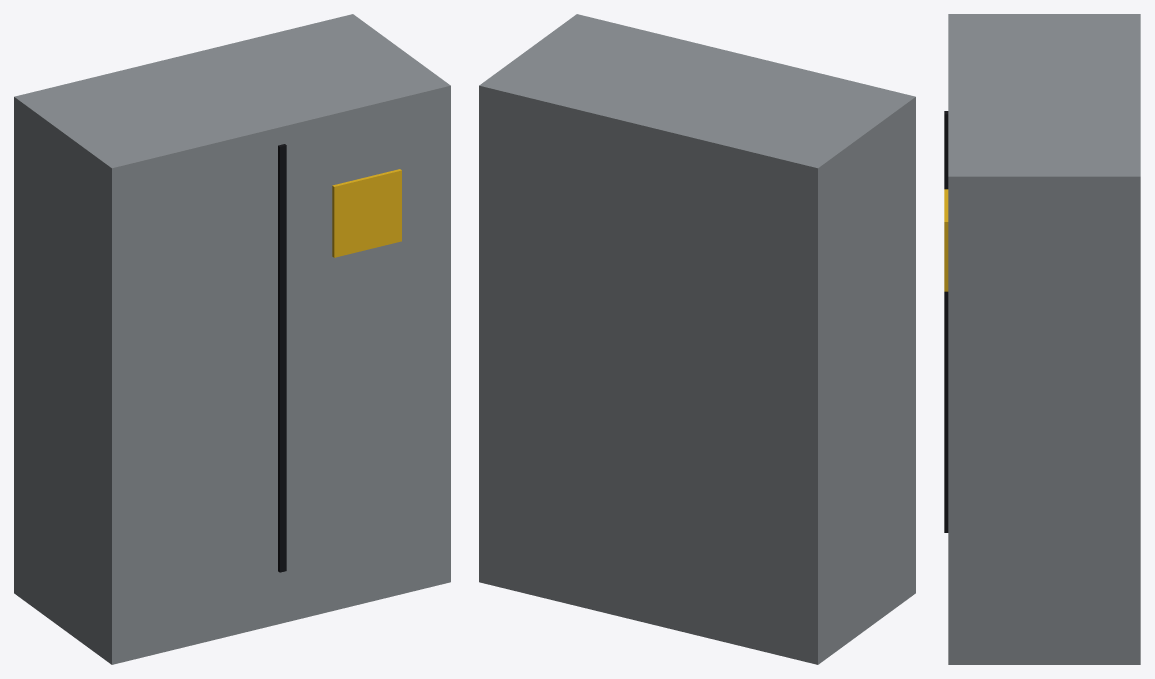
File: utility_box.glb
3 renders of one model, left to right at view 1: azimuth 30°, elevation 25°; view 2: azimuth 150°, elevation 25°; view 3: azimuth 270°, elevation 25°, orthographic.
Visible parts, largest first — view 1: utility_box_Body; view 2: utility_box_Body; view 3: utility_box_Body.
Part boxes in pixels (x1=…): utility_box_Body: x1=14, y1=14, x2=450, y2=664; utility_box_Body: x1=479, y1=14, x2=915, y2=664; utility_box_Body: x1=944, y1=14, x2=1140, y2=664.
Size of the model in its own units: 1 by 1.4 by 0.51.
